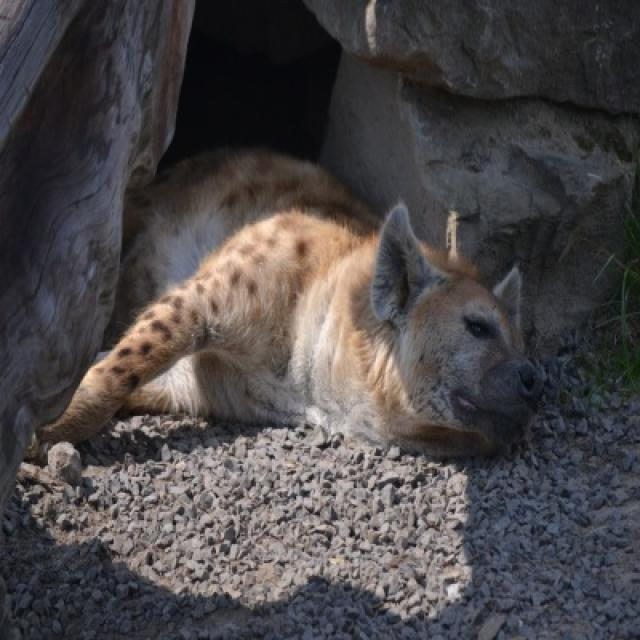hyena: (34, 150, 547, 464)
